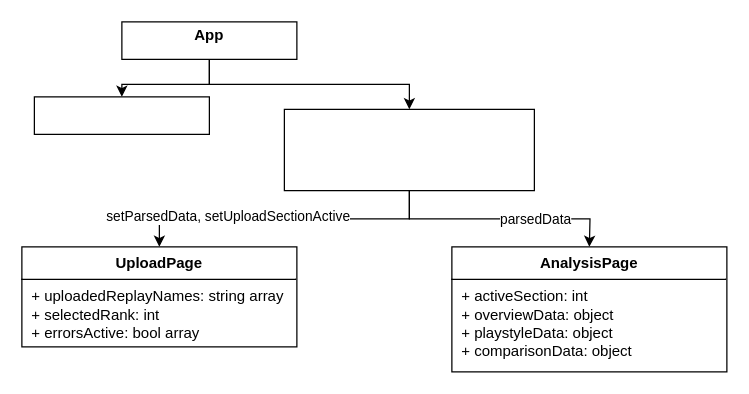
Some shapes in this 749 by 394 pixel diagram are drawn without their labels. The shapes that lost their labels are listed below. From the top down, each one's centre as x and y in pixels, then its label:
At (121,115): "Header".
At (408,149): "MainContent + uploadSectionActive: bool + parsedData: object".
